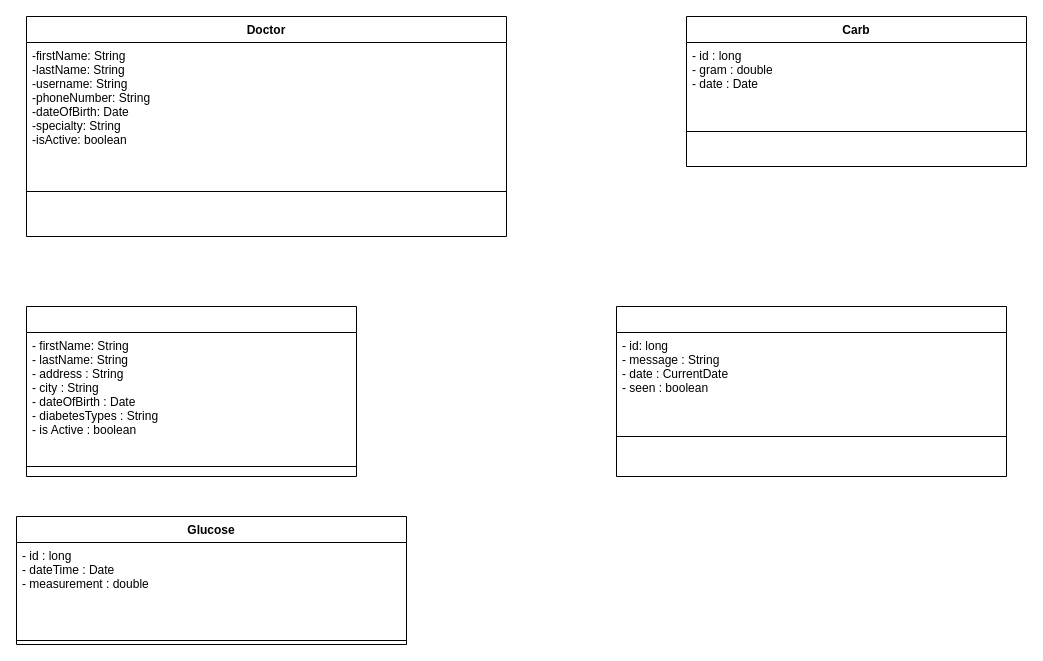
The diagram is 1043 pixels wide and 661 high, and some of its shapes have lost their labels. Each missing label, with the box of its shape:
Consult: (616, 306, 1006, 476)
Patient: (26, 306, 356, 476)
